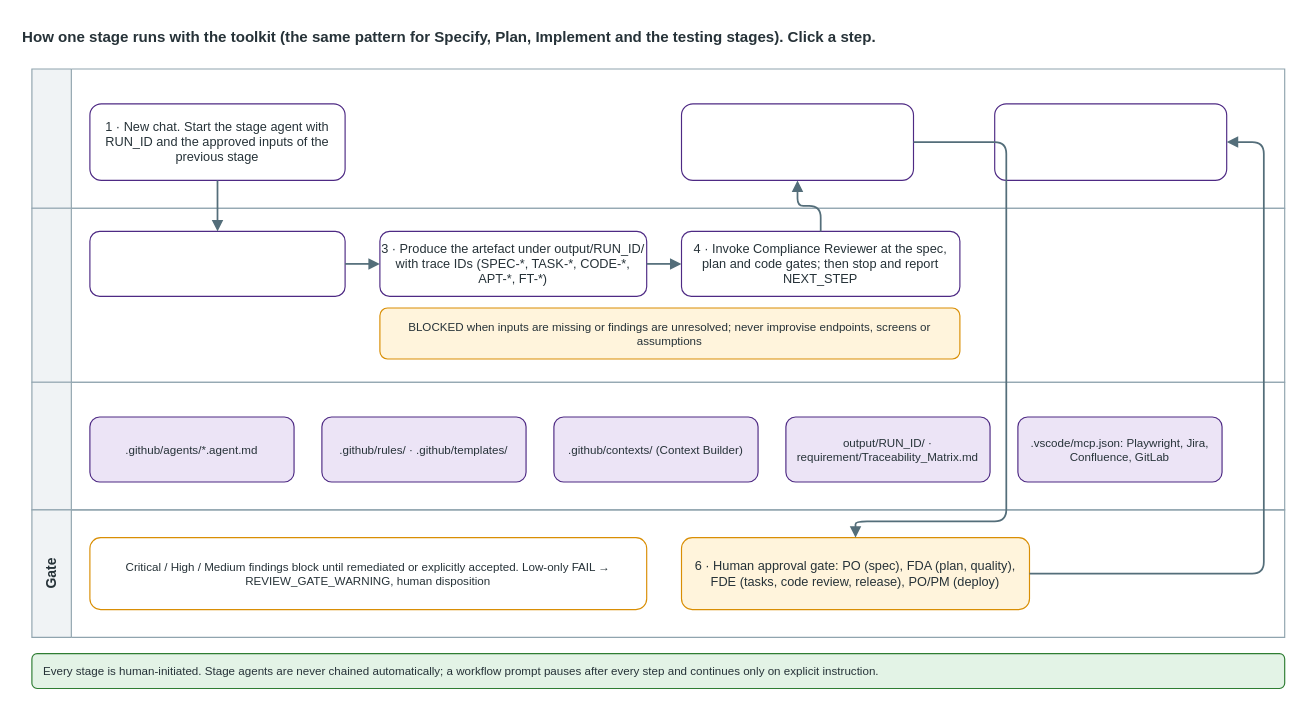
Some shapes in this 1315 by 709 pixel diagram are drawn without their labels. Each missing label, with the box of its shape:
2 · Read .github/contexts, rules, templates and the increment card: (89, 230, 345, 296)
5 · Review the output against the stage checklist: (680, 103, 913, 180)
7 · Approve, then start the next stage manually (NEXT_STEP): (994, 103, 1227, 180)
Agent: (31, 207, 1285, 382)
Squad: (31, 68, 1285, 208)
Toolkit files: (31, 381, 1285, 510)
